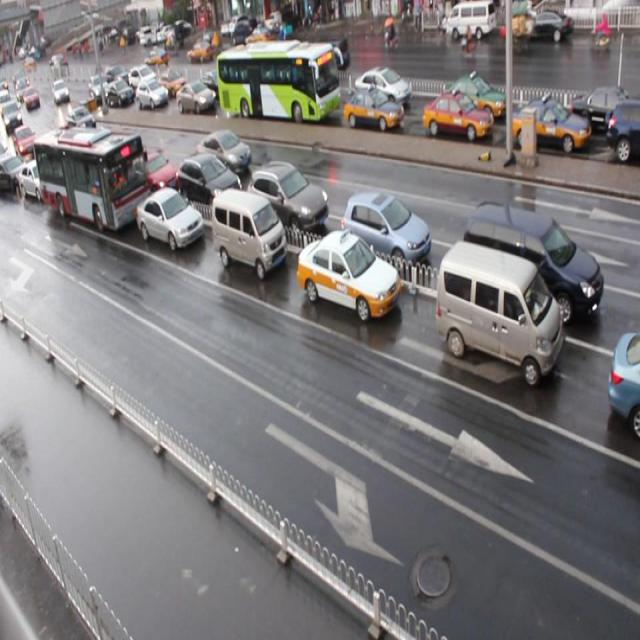car: (298, 228, 402, 322), (341, 192, 432, 276), (249, 161, 330, 234), (512, 98, 592, 156), (137, 186, 204, 250), (566, 84, 640, 138), (178, 152, 244, 212), (424, 92, 494, 140), (436, 74, 506, 122), (608, 328, 640, 431), (344, 84, 404, 133), (194, 131, 251, 176), (355, 65, 411, 109), (136, 146, 180, 195), (606, 97, 640, 159), (20, 158, 58, 202), (84, 132, 122, 171), (288, 67, 329, 102), (176, 82, 216, 115), (1, 152, 30, 194), (200, 70, 233, 105), (136, 79, 169, 108), (128, 64, 158, 92), (65, 106, 97, 132), (105, 78, 134, 106), (160, 70, 188, 96)
truck: (437, 240, 562, 388), (464, 198, 604, 328), (212, 188, 288, 278)
van: (35, 126, 154, 234), (216, 44, 340, 123)
